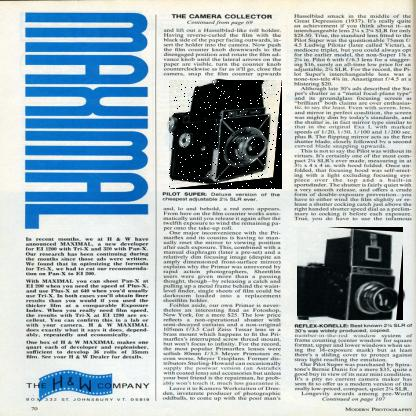Camera: (170, 81, 284, 191), (298, 229, 405, 325)
